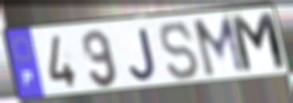4: (47, 33, 80, 92)
9: (81, 28, 120, 90)
J: (127, 26, 158, 83)
M: (227, 10, 291, 77), (190, 14, 249, 81)
S: (158, 20, 202, 83)
